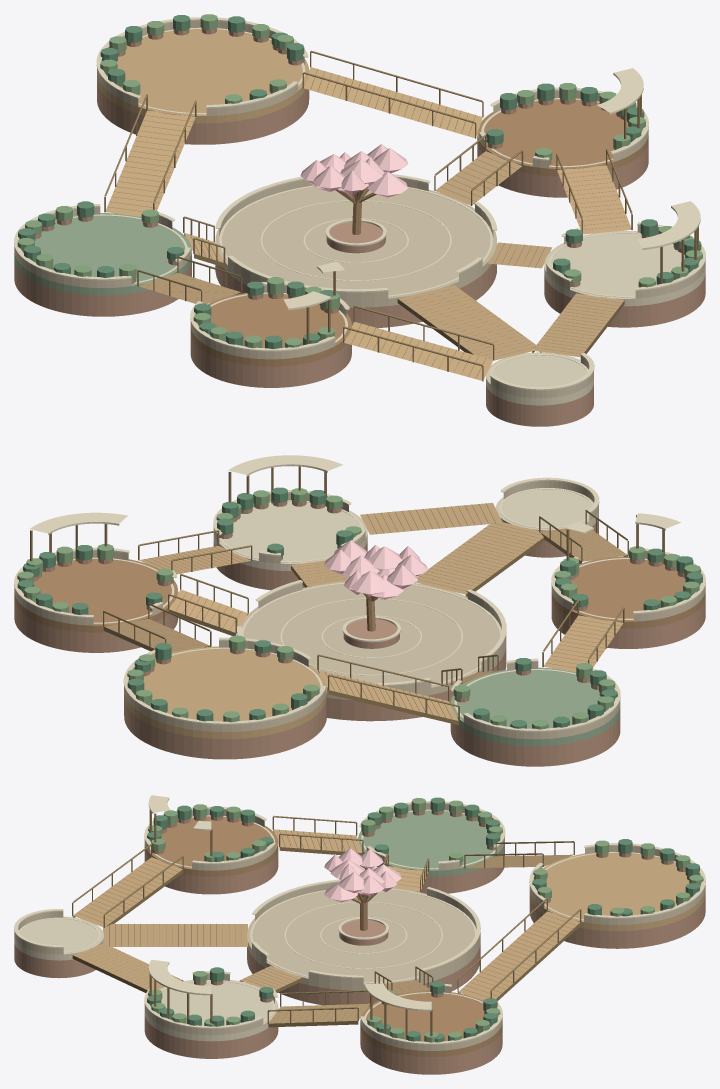
Rendered from social-empty.glb.
The picture shows the model from 3 angles, top to bottom: view 1: azimuth 30°, elevation 25°; view 2: azimuth 150°, elevation 25°; view 3: azimuth 270°, elevation 25°; orthographic projection. The views are drawn at different scales.
Parts seen in each view (by area): view 1: floor/main, trim/deck plinth, wall/foliage (×2), floor/roof, wall/parapets, floor/garden, floor/booths, floor/cafe, trim/parapet caps, trim/board joints, floor/vip, floor/path garden roof (+19 smaller); view 2: floor/main, trim/deck plinth, wall/foliage (×2), floor/roof, wall/parapets, floor/garden, floor/booths, floor/cafe, floor/vip, trim/parapet caps, trim/board joints, floor/path entry main (+19 smaller); view 3: floor/main, trim/deck plinth, wall/foliage (×2), floor/roof, wall/parapets, floor/garden, trim/parapet caps, floor/booths, floor/vip, floor/cafe, trim/board joints, floor/path roof booths (+19 smaller).
Boxes of the visible parts, x1=… form: floor/main: x1=215, y1=186, x2=496, y2=307; trim/deck plinth: x1=14, y1=81, x2=705, y2=426; wall/foliage (×2): x1=17, y1=14, x2=702, y2=349; floor/roof: x1=97, y1=29, x2=309, y2=123; wall/parapets: x1=14, y1=20, x2=705, y2=397; floor/garden: x1=14, y1=213, x2=191, y2=295; floor/booths: x1=477, y1=99, x2=648, y2=176; floor/cafe: x1=544, y1=230, x2=705, y2=306; trim/parapet caps: x1=14, y1=17, x2=705, y2=390; trim/board joints: x1=107, y1=69, x2=629, y2=378; floor/vip: x1=190, y1=293, x2=351, y2=366; floor/path garden roof: x1=106, y1=110, x2=195, y2=216; floor/main: x1=241, y1=581, x2=506, y2=700; trim/deck plinth: x1=14, y1=518, x2=705, y2=766; wall/foliage (×2): x1=17, y1=487, x2=702, y2=729; floor/roof: x1=124, y1=646, x2=326, y2=738; wall/parapets: x1=14, y1=481, x2=705, y2=739; floor/garden: x1=450, y1=667, x2=620, y2=746; floor/booths: x1=14, y1=559, x2=178, y2=632; floor/cafe: x1=213, y1=501, x2=367, y2=570; floor/vip: x1=551, y1=556, x2=705, y2=628; trim/parapet caps: x1=14, y1=477, x2=705, y2=731; trim/board joints: x1=106, y1=503, x2=625, y2=718; floor/path entry main: x1=415, y1=520, x2=543, y2=594; floor/main: x1=247, y1=888, x2=480, y2=990; trim/deck plinth: x1=14, y1=848, x2=705, y2=1074; wall/foliage (×2): x1=147, y1=797, x2=703, y2=1042; floor/roof: x1=529, y1=853, x2=705, y2=931; wall/parapets: x1=14, y1=803, x2=705, y2=1050; floor/garden: x1=358, y1=810, x2=504, y2=876; trim/parapet caps: x1=14, y1=801, x2=705, y2=1044; floor/booths: x1=360, y1=991, x2=502, y2=1057; floor/vip: x1=144, y1=816, x2=278, y2=876; floor/cafe: x1=144, y1=980, x2=278, y2=1041; trim/board joints: x1=77, y1=829, x2=576, y2=1022; floor/path roof booths: x1=459, y1=911, x2=579, y2=1000.
Size of the model in its own units: 34.59 by 6.43 by 40.89.
